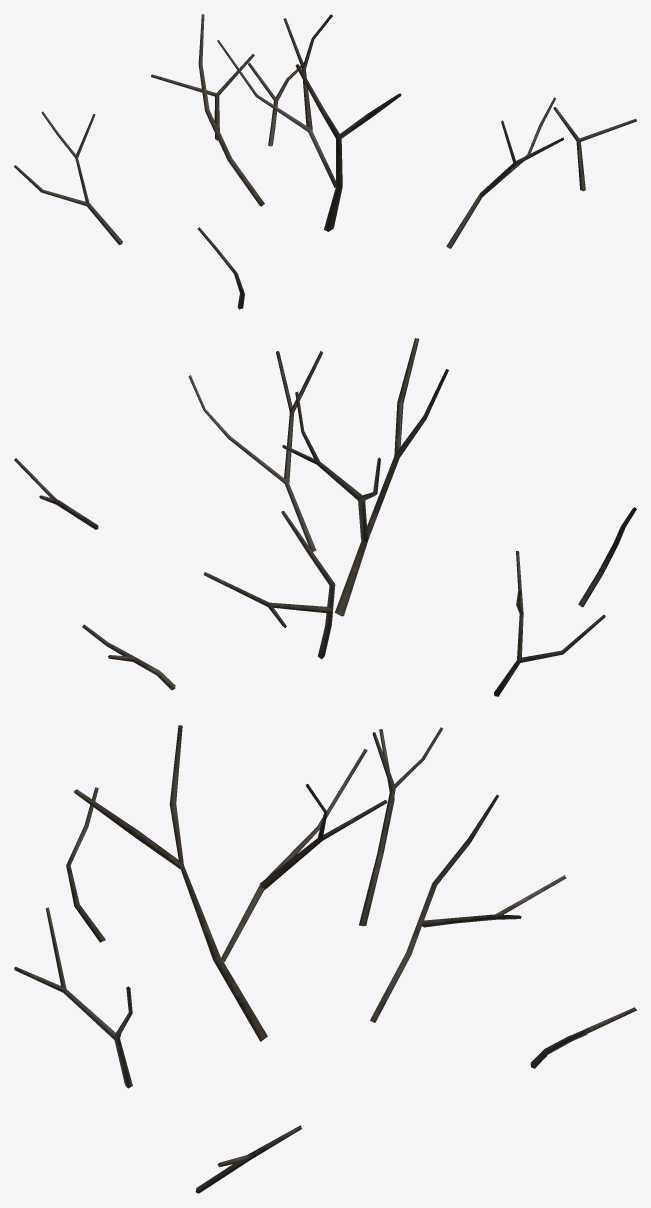
Rendered from Bush3-1.fbx.
3 views of the same model, one above another, from view 1: azimuth 30°, elevation 25°; view 2: azimuth 150°, elevation 25°; view 3: azimuth 270°, elevation 25° (orthographic). The views are drawn at different scales.
Visible parts, largest first — view 1: Bush3-1_LOD0; view 2: Bush3-1_LOD0; view 3: Bush3-1_LOD0.
Boxes of the visible parts, left/top/right/bottom form: Bush3-1_LOD0: left=14, top=14, right=636, bottom=309; Bush3-1_LOD0: left=14, top=338, right=636, bottom=696; Bush3-1_LOD0: left=14, top=725, right=636, bottom=1193.
Size of what is drawn, in the model's own units: 1.79 by 1.27 by 0.6189.
